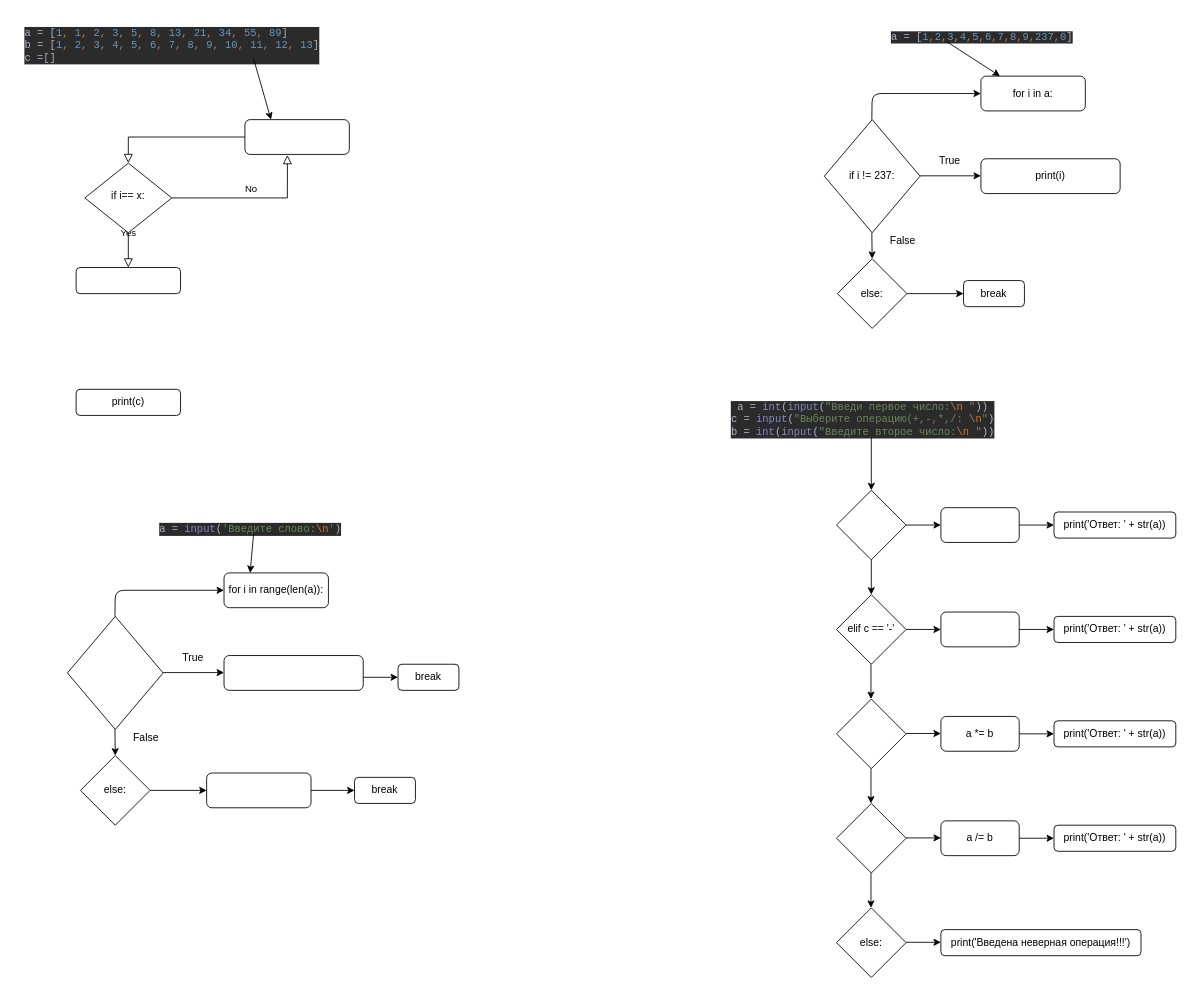
Some shapes in this 1191 by 993 pixel diagram are drawn without their labels. The centre of each missing label's shape, as x and y in pixels:
a += b: point 979,524
a -= b: point 979,629
c.append(i): point 128,280
elif c =='*': point 871,733
elif c =='/': point 871,838
for i in x: for x in b:: point 296,136
if a[i] != a[-1-i]:: point 115,672
if c =='+':: point 871,524
print('Это не палиндром!'): point 293,672
print('Это палиндром!'): point 258,790
